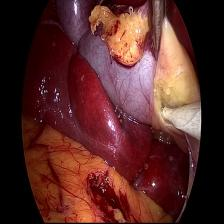Grasper: (142, 1, 170, 58)
Hook: (156, 98, 203, 139)
